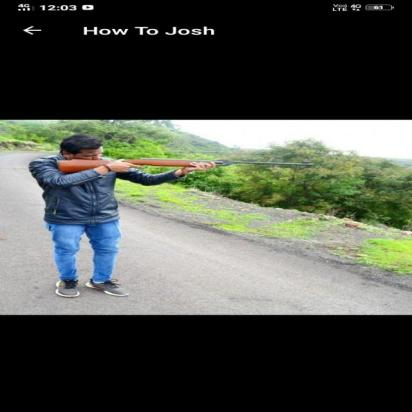Gun: (54, 157, 316, 175)
